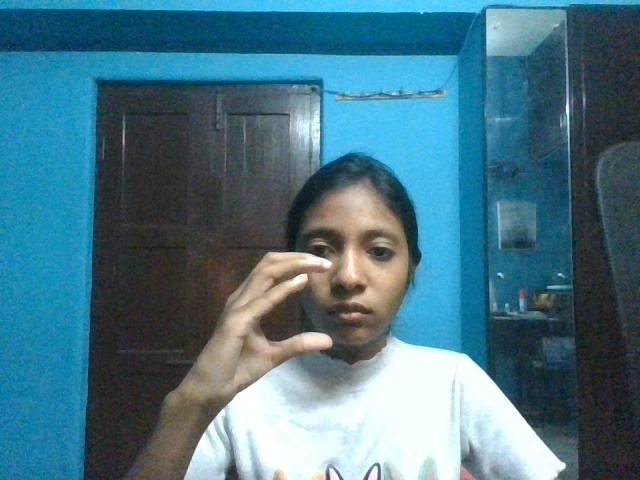C: (198, 249, 345, 403)
